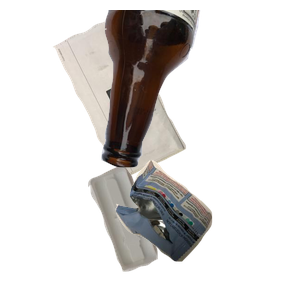glass: (99, 10, 300, 170)
paper: (51, 13, 230, 186)
plastic: (85, 163, 235, 300)
trash: (113, 157, 300, 300)
